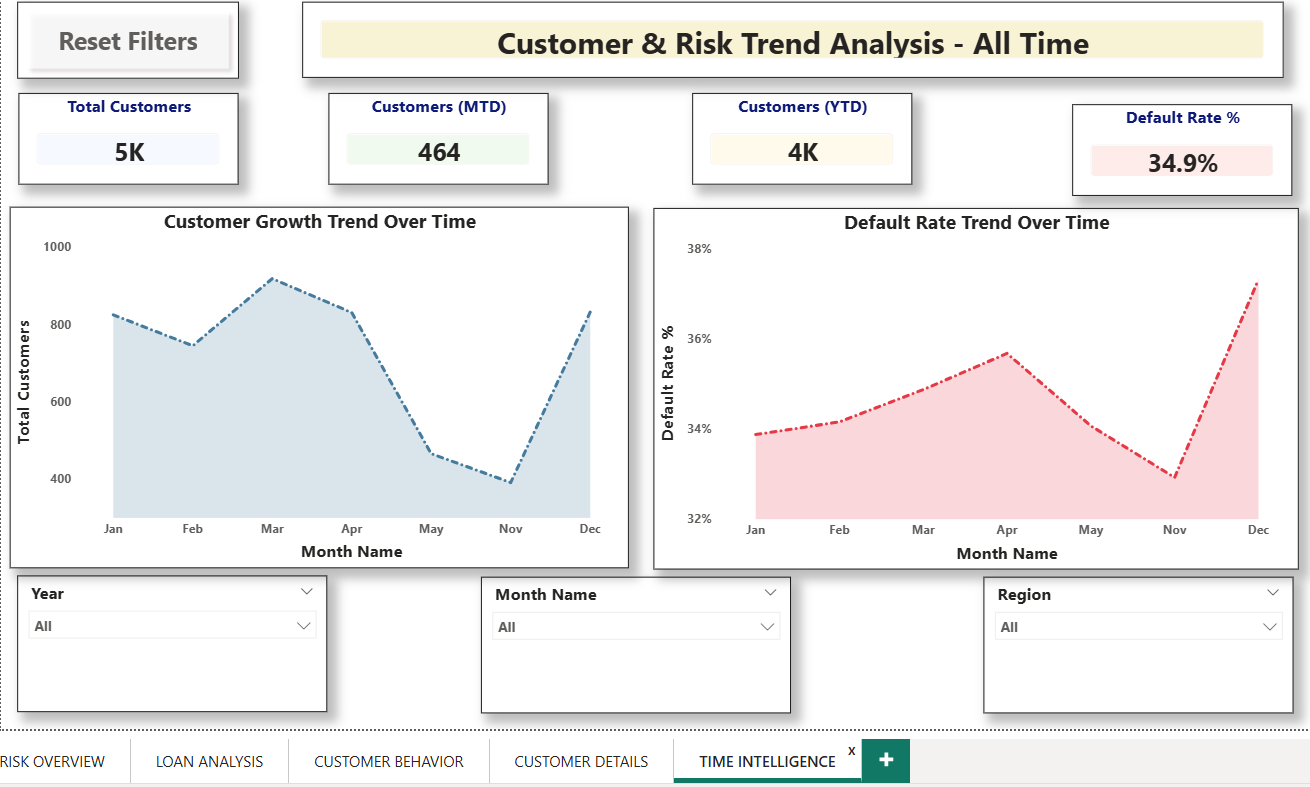

Layout of this report page (visuals, bound fields, positions):
{"tool":"powerbi","page":{"name":"TIME INTELLIGENCE","canvas":[1280,720],"ordinal":4},"visuals":[{"type":"cardVisual","fields":{"Data":["Measure.Time Title"]},"box":[294.7,8.6,959.9,74.6],"z":0},{"type":"cardVisual","title":"Total Customers","fields":{"Data":["Measure.Total Customers"]},"box":[17,97.8,215.2,89.3],"z":0,"group":"g1"},{"type":"slicer","fields":{"Values":["DateTable.Year"]},"box":[15.7,569.8,303.3,133.3],"z":0,"group":"g2"},{"type":"cardVisual","title":"Customers (YTD)","fields":{"Data":["Measure.Customers YTD"]},"box":[676.1,97.8,215.2,89.3],"z":1000,"group":"g1"},{"type":"lineChart","title":"Customer Growth Trend Over Time","fields":{"Category":["DateTable.Year Hierarchy.Year","DateTable.Year Hierarchy.Month Name"],"Y":["Measure.Total Customers"]},"box":[8.6,209.1,605.3,353.4],"z":1000},{"type":"slicer","fields":{"Values":["DateTable.Month Name"]},"box":[469.4,571,303.3,133.3],"z":1000,"group":"g2"},{"type":"cardVisual","title":"Customers (MTD)","fields":{"Data":["Measure.Customers MTD"]},"box":[320.3,97.8,215.2,89.3],"z":2000,"group":"g1"},{"type":"lineChart","title":"Default Rate Trend Over Time","fields":{"Category":["DateTable.Year Hierarchy.Year","DateTable.Year Hierarchy.Month Name"],"Y":["Measure.Default Rate %"]},"box":[638.3,210.3,631,353.4],"z":2000},{"type":"slicer","fields":{"Values":["customer_credit_data.region"]},"box":[960.9,571,303.3,133.3],"z":2000,"group":"g2"},{"type":"group","id":"g1","title":"Group 1","box":[17,97.8,1246.1,100.3],"z":3000},{"type":"cardVisual","title":"Default Rate %","fields":{"Data":["Measure.Default Rate %"]},"box":[1047.8,108.8,215.2,89.3],"z":3000,"group":"g1"},{"type":"group","id":"g2","title":"Group 2","box":[15.7,569.8,1248.5,134.5],"z":4000},{"type":"actionButton","box":[15.9,8.7,216.9,75.2],"z":5000}]}

Visuals, with their boxes on the page's 1280x720 design canvas (x1, y1, x2, y2). These are canvas units, not pixel positions in the 1310x787 screenshot, which may show the page scaled, cropped or inside an application window:
cardVisual - Measure.Time Title: {"x1": 295, "y1": 9, "x2": 1255, "y2": 83}
"Total Customers" cardVisual: {"x1": 17, "y1": 98, "x2": 232, "y2": 187}
slicer - DateTable.Year: {"x1": 16, "y1": 570, "x2": 319, "y2": 703}
"Customers (YTD)" cardVisual: {"x1": 676, "y1": 98, "x2": 891, "y2": 187}
"Customer Growth Trend Over Time" lineChart: {"x1": 9, "y1": 209, "x2": 614, "y2": 562}
slicer - DateTable.Month Name: {"x1": 469, "y1": 571, "x2": 773, "y2": 704}
"Customers (MTD)" cardVisual: {"x1": 320, "y1": 98, "x2": 536, "y2": 187}
"Default Rate Trend Over Time" lineChart: {"x1": 638, "y1": 210, "x2": 1269, "y2": 564}
slicer - customer_credit_data.region: {"x1": 961, "y1": 571, "x2": 1264, "y2": 704}
"Group 1" group: {"x1": 17, "y1": 98, "x2": 1263, "y2": 198}
"Default Rate %" cardVisual: {"x1": 1048, "y1": 109, "x2": 1263, "y2": 198}
"Group 2" group: {"x1": 16, "y1": 570, "x2": 1264, "y2": 704}
actionButton: {"x1": 16, "y1": 9, "x2": 233, "y2": 84}
